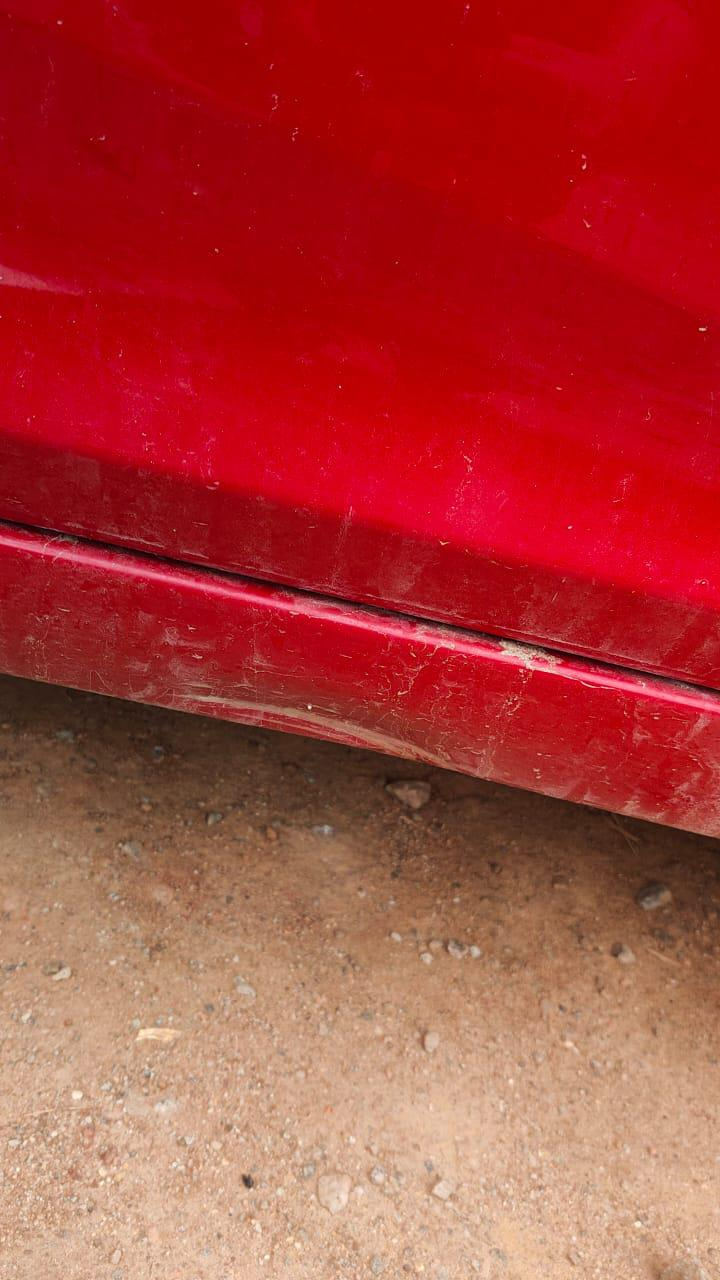RunningBoard-Dent: (6, 528, 719, 859)
